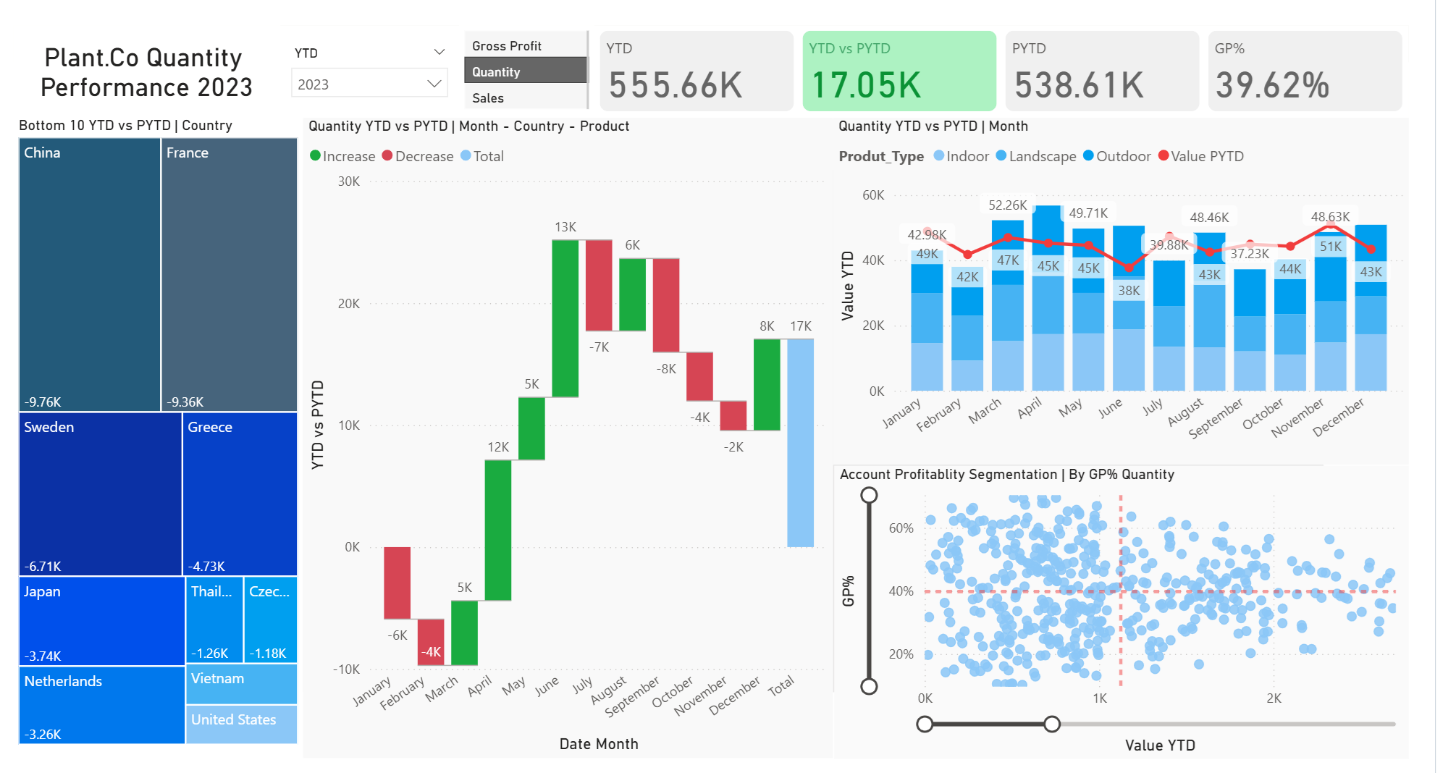

What the dashboard file says about the page in this screenshot:
{"tool":"powerbi","page":{"name":"Dashboard","canvas":[1280,720],"ordinal":0},"visuals":[{"type":"cardVisual","fields":{"Data":["_Measure.S_YTD","_Measure.YTD vs PYTD","_Measure.S_PYTD","_Measure.GP%"]},"box":[533.2,0,746.8,84.5],"z":0},{"type":"advancedSlicerVisual","fields":{"Values":["SlcValues.Values"]},"box":[409,0,124.3,83.2],"z":1000},{"type":"slicer","fields":{"Values":["Dim_Date.Date.Variation.Date Hierarchy.Year"]},"box":[245.5,13.6,163.6,63.6],"z":2000},{"type":"treemap","title":"Bottom 10 YTD vs PYTD | Country","fields":{"Values":["_Measure.YTD vs PYTD"],"Group":["Dim_Account.country"]},"box":[0,83.6,266.4,580.9],"z":3000},{"type":"lineStackedColumnComboChart","fields":{"Y":["_Measure.S_YTD"],"Category":["Dim_Date.Date.Variation.Date Hierarchy.Quarter","Dim_Date.Date.Variation.Date Hierarchy.Month"],"Y2":["_Measure.S_PYTD"],"Series":["Dim_Product.Produt_Type"]},"box":[752,85.1,528.3,318.4],"z":4000},{"type":"waterfallChart","fields":{"Y":["_Measure.YTD vs PYTD"],"Category":["Dim_Date.Date.Variation.Date Hierarchy.Month","Dim_Account.country","Dim_Product.Produt_Type","Dim_Product.Product_Name"]},"box":[266.2,85.1,485.8,587.3],"z":5000},{"type":"scatterChart","fields":{"Y":["_Measure.GP%"],"X":["_Measure.S_YTD"],"Category":["Dim_Account.Account"]},"box":[752.5,403.8,527.5,268.8],"z":6000},{"type":"card","fields":{"Values":["_Measure._Report Title"]},"box":[0,0,245.5,83.6],"z":7000}]}

Visuals, with their boxes on the page's 1280x720 design canvas (x1, y1, x2, y2). These are canvas units, not pixel positions in the 1438x773 screenshot, which may show the page scaled, cropped or inside an application window:
cardVisual - _Measure.S_YTD x _Measure.YTD vs PYTD: <region>533, 0, 1280, 84</region>
advancedSlicerVisual - SlcValues.Values: <region>409, 0, 533, 83</region>
slicer - Dim_Date.Date.Variation.Date Hierarchy.Year: <region>246, 14, 409, 77</region>
"Bottom 10 YTD vs PYTD | Country" treemap: <region>0, 84, 266, 664</region>
lineStackedColumnComboChart - _Measure.S_YTD x Dim_Date.Date.Variation.Date Hierarchy.Quarter: <region>752, 85, 1280, 404</region>
waterfallChart - _Measure.YTD vs PYTD x Dim_Date.Date.Variation.Date Hierarchy.Month: <region>266, 85, 752, 672</region>
scatterChart - _Measure.GP% x _Measure.S_YTD: <region>752, 404, 1280, 673</region>
card - _Measure._Report Title: <region>0, 0, 246, 84</region>
